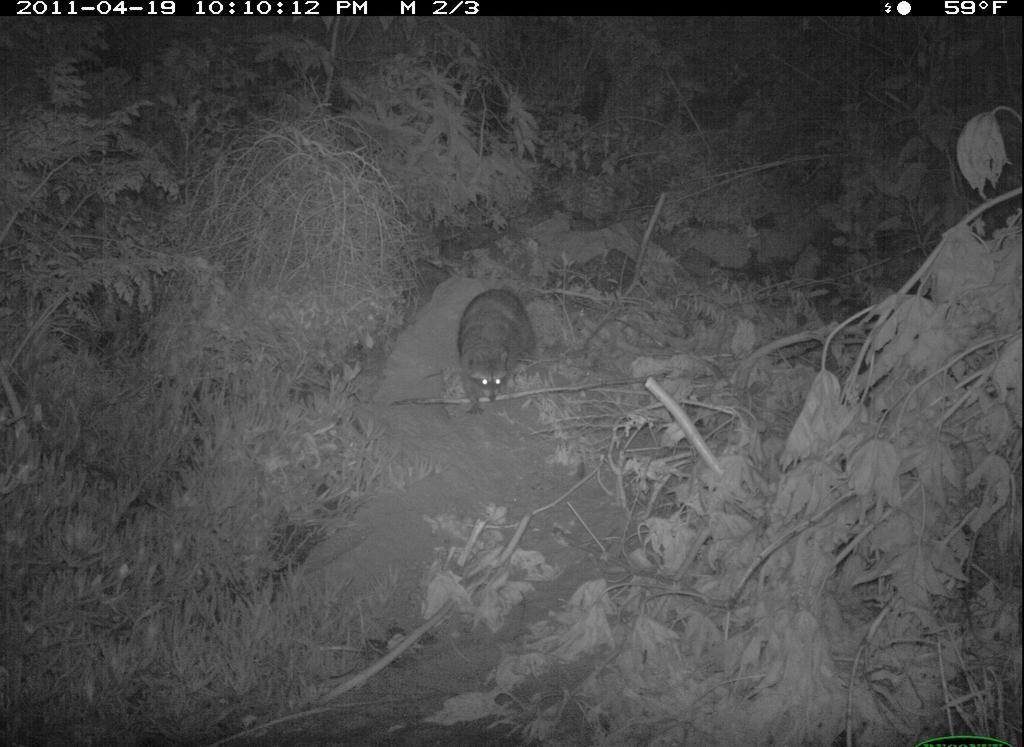raccoon: (451, 267, 551, 425)
